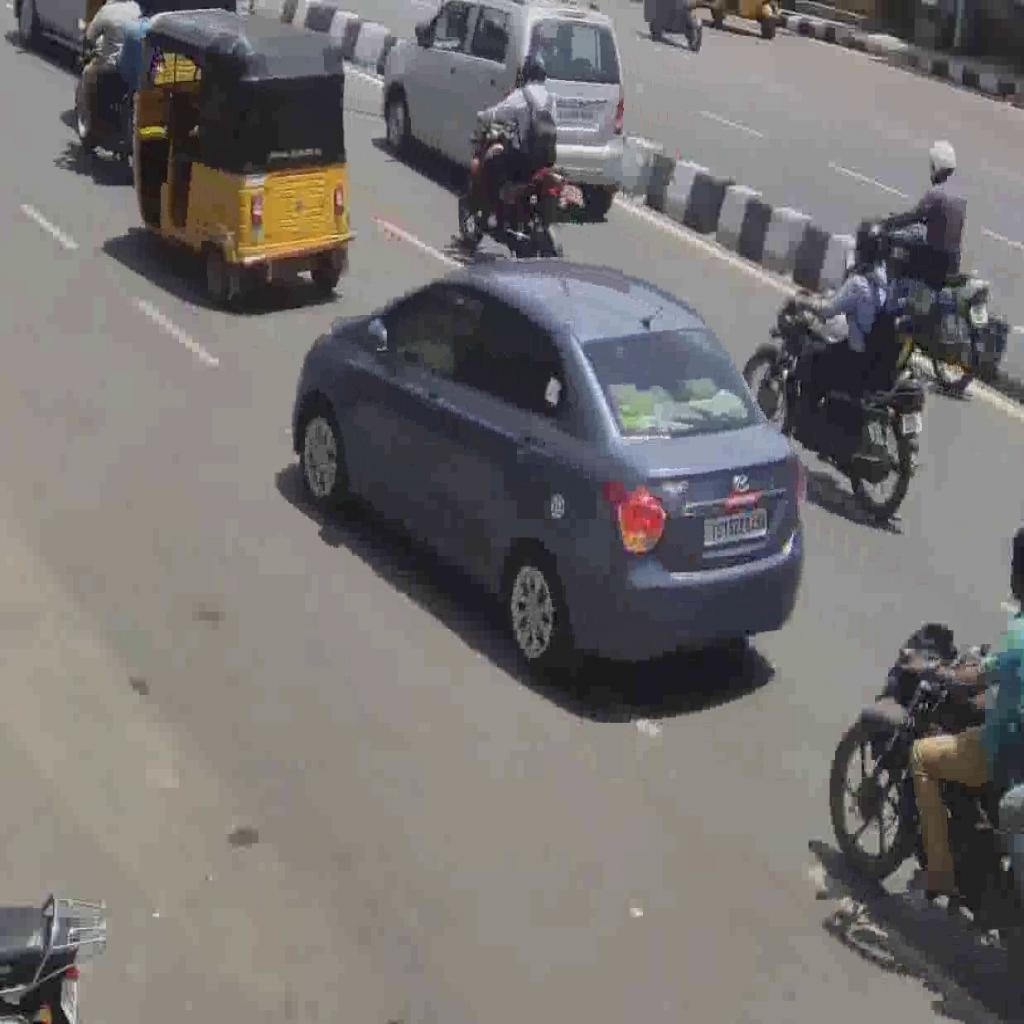helmet: (827, 620, 1024, 984), (741, 290, 928, 524), (893, 225, 991, 394), (457, 111, 567, 261)
